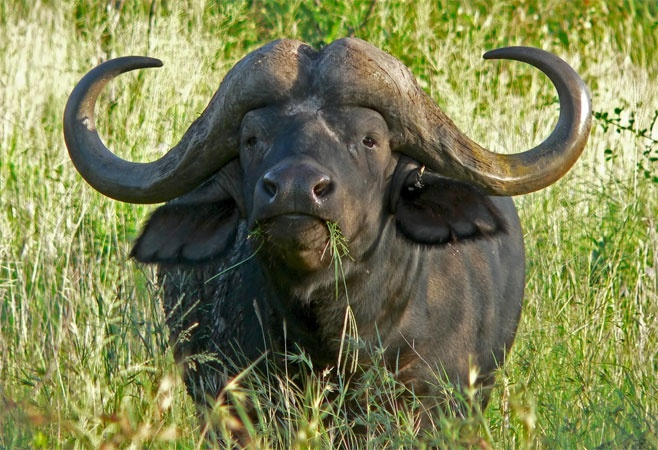buffalo: (61, 39, 592, 443)
